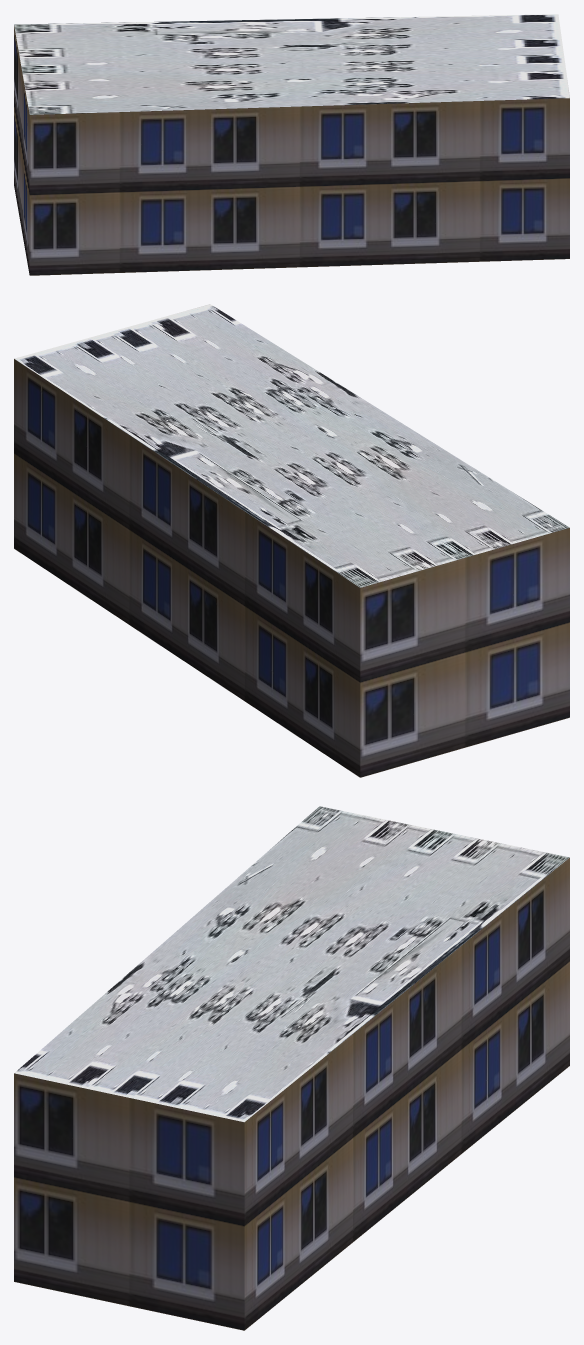
The model's file is ResTex__3769.fbx.
3 renders of one model, top to bottom at view 1: azimuth 30°, elevation 25°; view 2: azimuth 150°, elevation 25°; view 3: azimuth 270°, elevation 25°, orthographic. The views are drawn at different scales.
Visible parts, largest first — view 1: CityEngineMaterial_5_m, CityEngineMaterial_4_m; view 2: CityEngineMaterial_5_m, CityEngineMaterial_4_m; view 3: CityEngineMaterial_5_m, CityEngineMaterial_4_m.
Boxes of the visible parts, x1,y1,x2,y2 form: CityEngineMaterial_5_m: (14,25,569,275); CityEngineMaterial_4_m: (14,14,569,114); CityEngineMaterial_5_m: (14,359,569,777); CityEngineMaterial_4_m: (14,304,569,587); CityEngineMaterial_5_m: (14,857,569,1330); CityEngineMaterial_4_m: (14,806,569,1122).
Size of the model in its own units: 19.51 by 6 by 14.5.
Materials: 2 (2 with a texture image).
